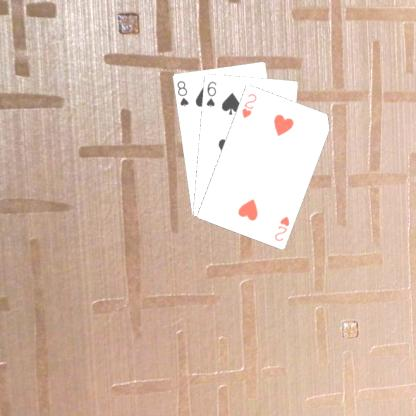2H: (271, 212, 291, 243), (238, 90, 258, 119)
6S: (203, 78, 217, 109)
8S: (174, 78, 190, 108)
